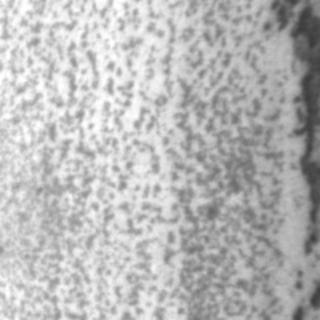patches: (271, 0, 315, 104)
pitted_surface: (0, 0, 284, 310)
